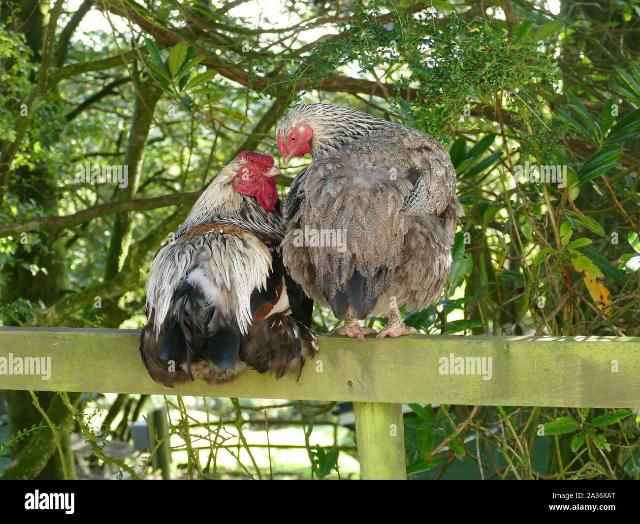Chicken: (274, 99, 457, 344), (142, 149, 320, 386)
